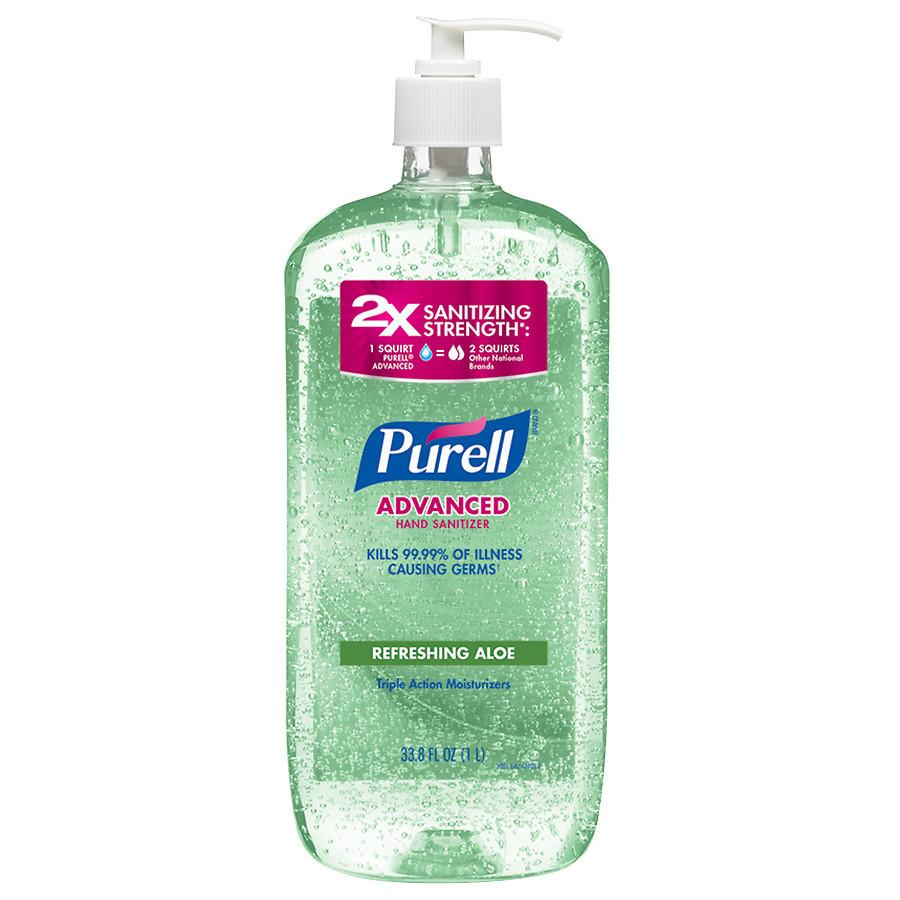Sanitizer: (277, 7, 620, 887)
